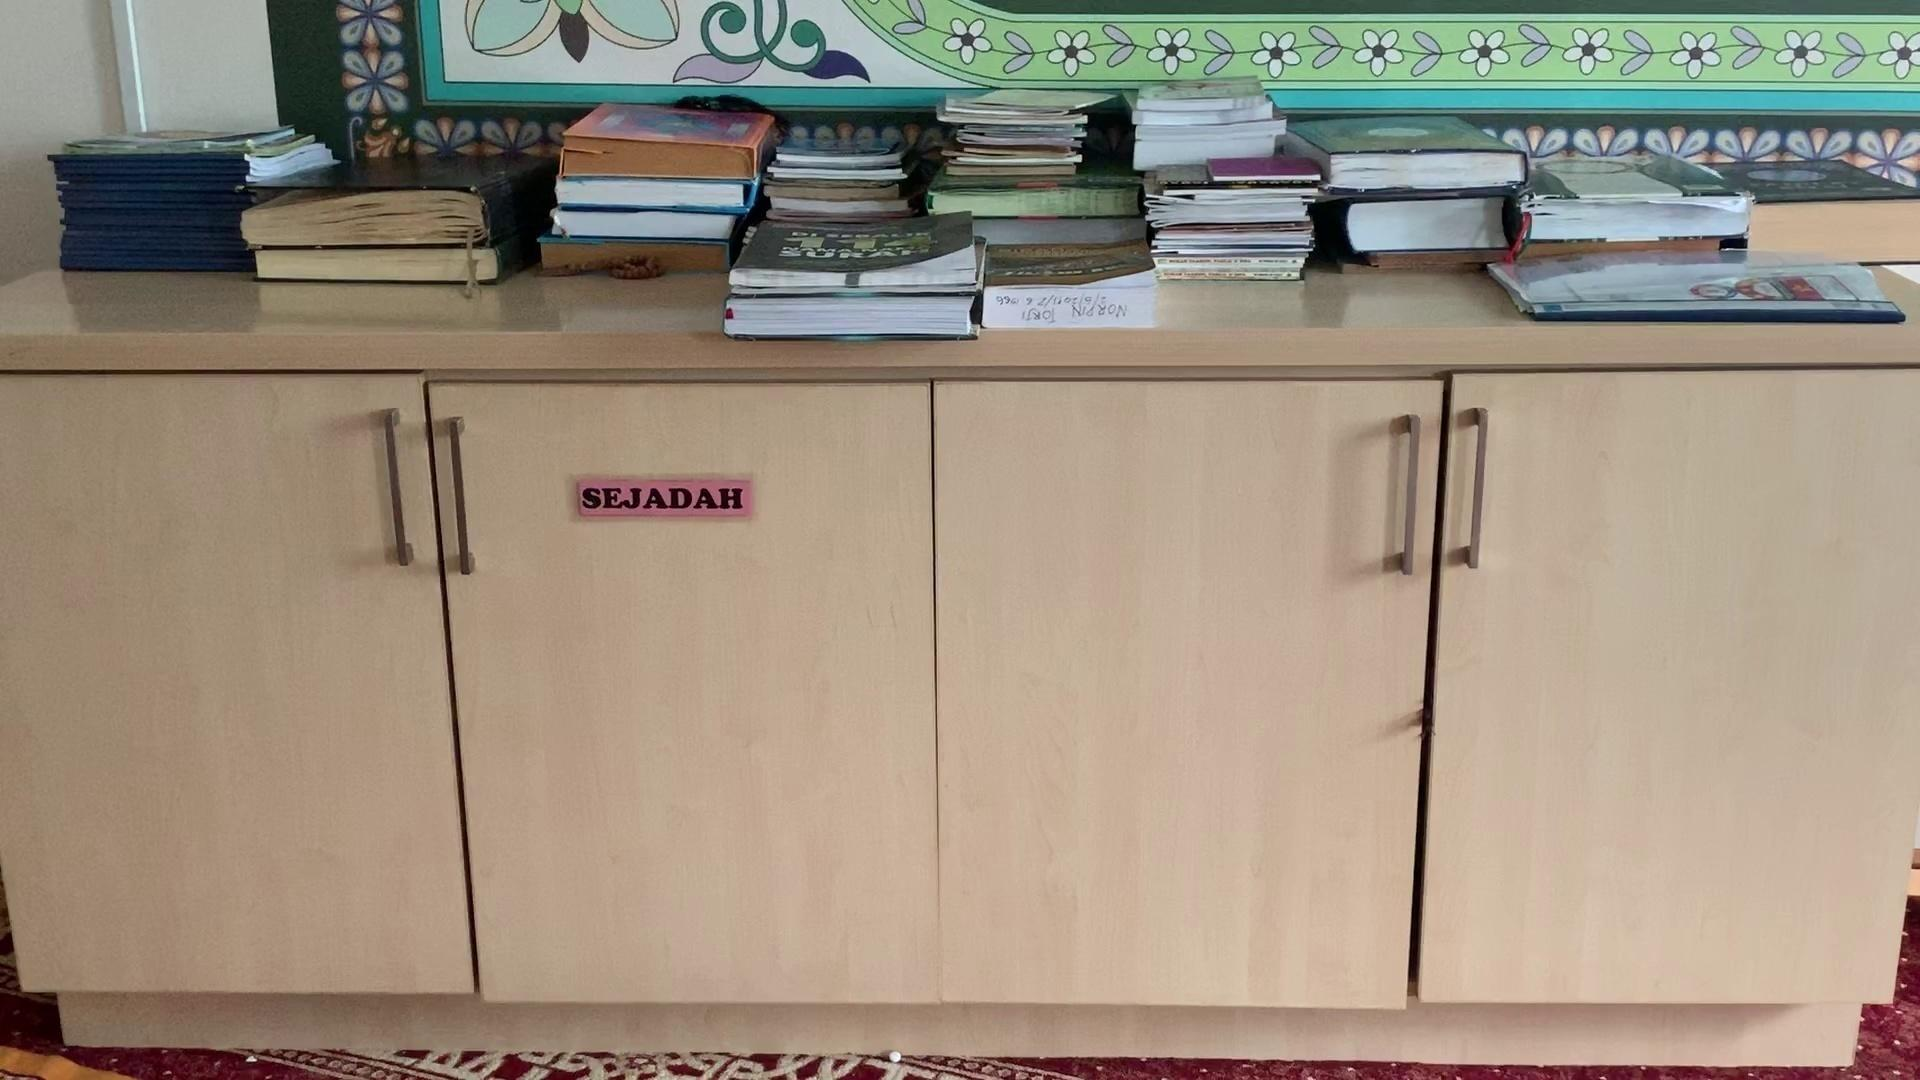cabinet_door: (949, 385, 1437, 1009), (1437, 377, 1920, 1000), (465, 386, 945, 1004), (0, 386, 443, 996)
handle: (434, 405, 485, 587), (1379, 404, 1431, 583), (371, 400, 422, 579), (1452, 401, 1498, 572)
